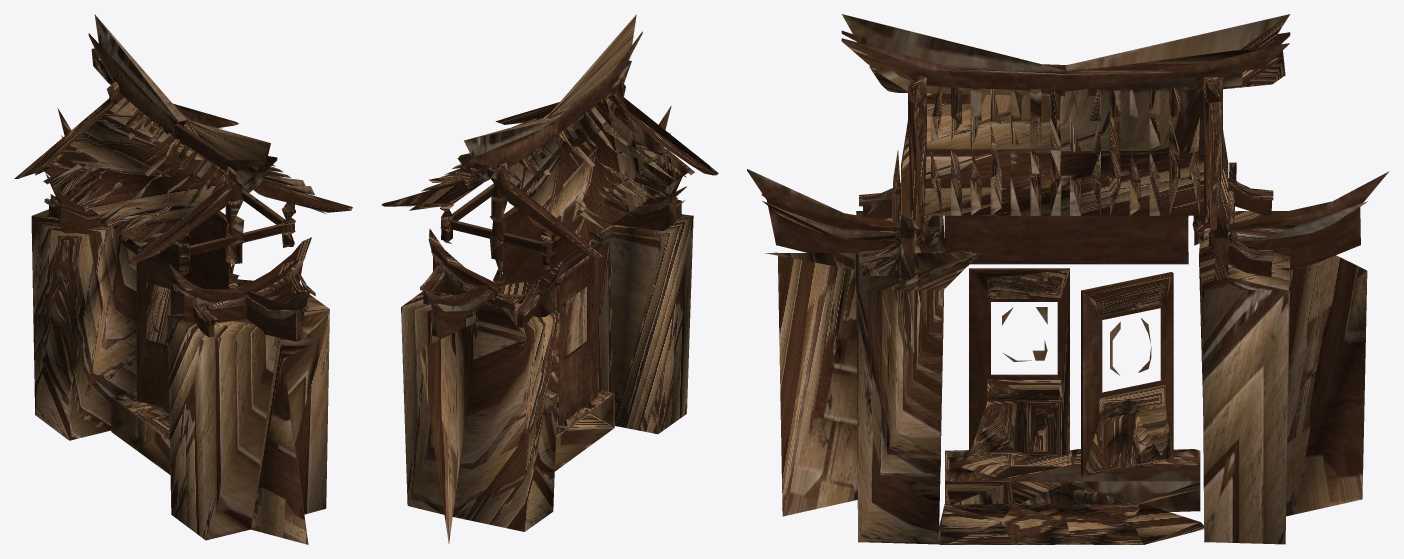
Rendered from den-chua.glb.
3 renders of one model, left to right at view 1: azimuth 30°, elevation 25°; view 2: azimuth 150°, elevation 25°; view 3: azimuth 270°, elevation 25°, orthographic. The views are drawn at different scales.
Parts seen in each view (by area): view 1: Cube.007, Cube.008, Cube, Cube.001, Cube.006, Circle, Cube.004, Cube.026, Cube.028, Cube.003, Cube.021, Cube.025 (+11 smaller); view 2: Cube.008, Cube.007, Cube, Cube.001, Cube.006, Cube.011, Circle, Cube.004, Cube.003, Cube.028, Circle.003, Cube.015 (+8 smaller); view 3: Cube.007, Cube.008, Cube, Cube.001, Cube.011, Cube.026, Circle, Cube.010, Cube.003, Cube.009, Cube.004, Cube.006 (+11 smaller).
Part boxes in pixels (box(x1,y1,x2,y2)): Cube.007: box(167, 279, 329, 544); Cube.008: box(31, 209, 170, 440); Cube: box(44, 97, 326, 256); Cube.001: box(35, 99, 314, 251); Cube.006: box(14, 81, 352, 263); Circle: box(156, 186, 244, 289); Cube.004: box(94, 14, 270, 172); Cube.026: box(136, 260, 178, 408); Cube.028: box(111, 391, 170, 474); Cube.003: box(88, 33, 277, 171); Cube.021: box(245, 290, 310, 341); Cube.025: box(169, 264, 243, 323); Cube.008: box(401, 290, 560, 543); Cube.007: box(554, 191, 693, 434); Cube: box(409, 102, 687, 240); Cube.001: box(421, 96, 694, 245); Cube.006: box(381, 79, 718, 256); Cube.011: box(556, 257, 597, 424); Circle: box(489, 184, 598, 283); Cube.004: box(464, 14, 636, 157); Cube.003: box(457, 31, 642, 171); Cube.028: box(554, 389, 614, 471); Circle.003: box(440, 183, 542, 251); Cube.015: box(423, 285, 488, 336); Cube.007: box(765, 211, 980, 544); Cube.008: box(1199, 211, 1367, 544); Cube: box(924, 89, 1205, 215); Cube.001: box(931, 87, 1200, 215); Cube.011: box(969, 268, 1069, 455); Cube.026: box(1081, 272, 1173, 476); Circle: box(927, 96, 1204, 261); Cube.010: box(938, 504, 1203, 544); Cube.003: box(841, 30, 1290, 91); Cube.009: box(945, 464, 1200, 504); Cube.004: box(842, 14, 1289, 72); Cube.006: box(908, 75, 1222, 229).
Size of the model in its own units: 0.5148 by 0.8495 by 1.
1 material, 1 textured.
